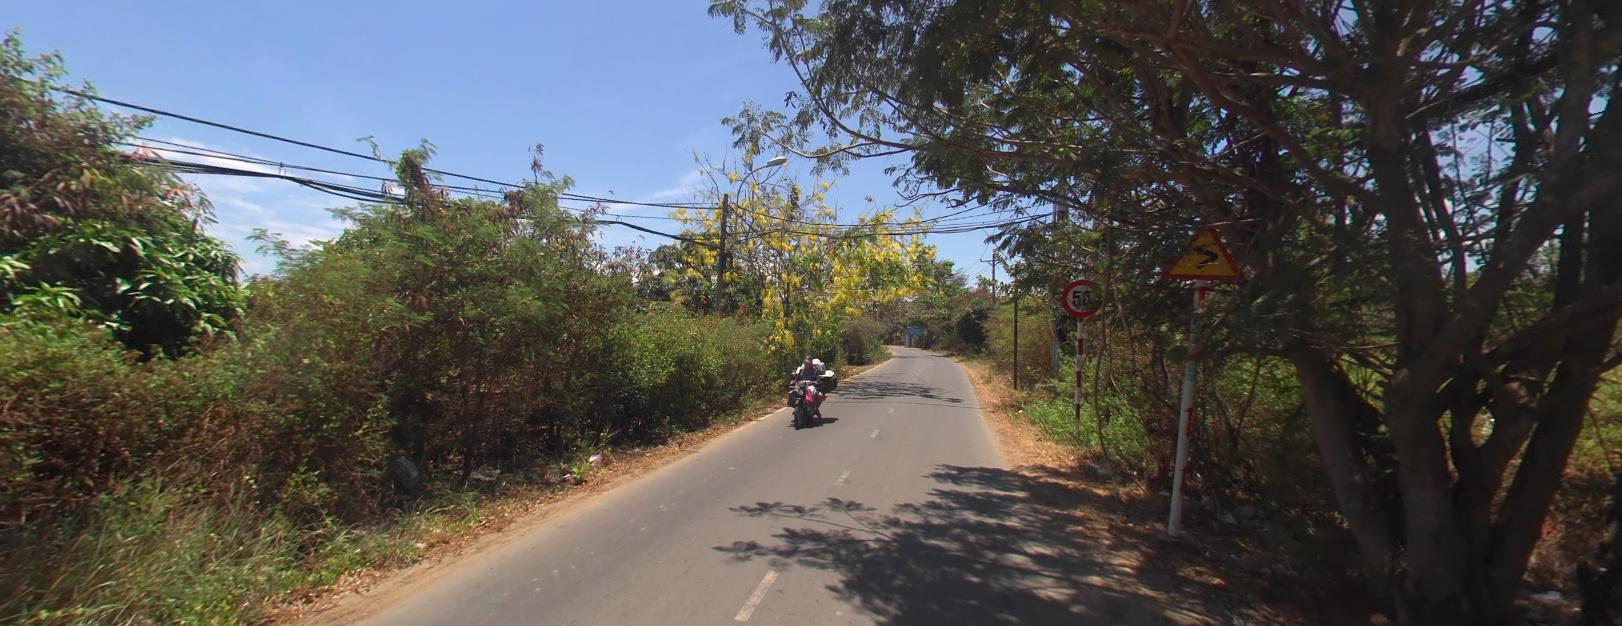Gioi han toc do: (1063, 278, 1102, 315)
Nguy hiem: (1165, 215, 1241, 279)
